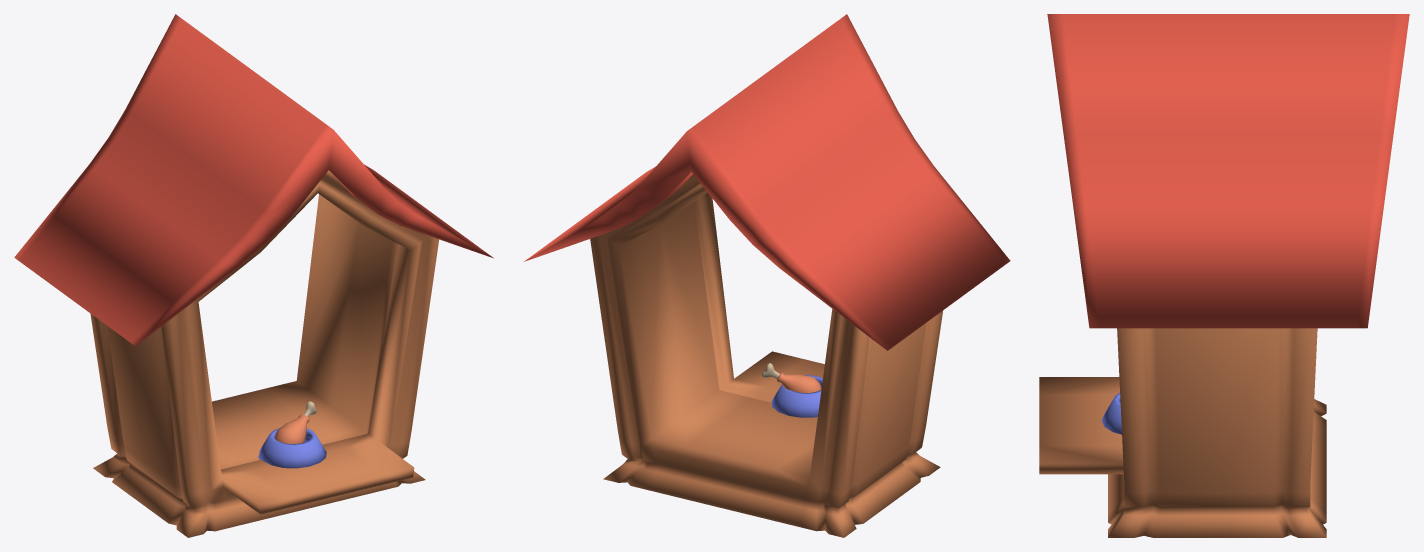
The model's file is CasetaPerro.fbx.
3 renders of one model, left to right at view 1: azimuth 30°, elevation 25°; view 2: azimuth 150°, elevation 25°; view 3: azimuth 270°, elevation 25°, orthographic. The views are drawn at different scales.
Visible parts, largest first — view 1: Cube.026, Cube.025, Cube.024, Cube.022; view 2: Cube.026, Cube.025, Cube.024, Cube.022; view 3: Cube.025, Cube.026, Cube.024.
Boxes of the visible parts, x1,y1,x2,y2 form: Cube.026: (90, 170, 439, 537); Cube.025: (14, 14, 493, 345); Cube.024: (258, 428, 326, 468); Cube.022: (275, 414, 309, 443); Cube.026: (590, 174, 943, 537); Cube.025: (524, 14, 1010, 350); Cube.024: (771, 375, 822, 417); Cube.022: (777, 372, 821, 392); Cube.025: (1047, 14, 1409, 328); Cube.026: (1039, 328, 1326, 537); Cube.024: (1101, 393, 1121, 434).
Size of the model in its own units: 292 by 310 by 227.
